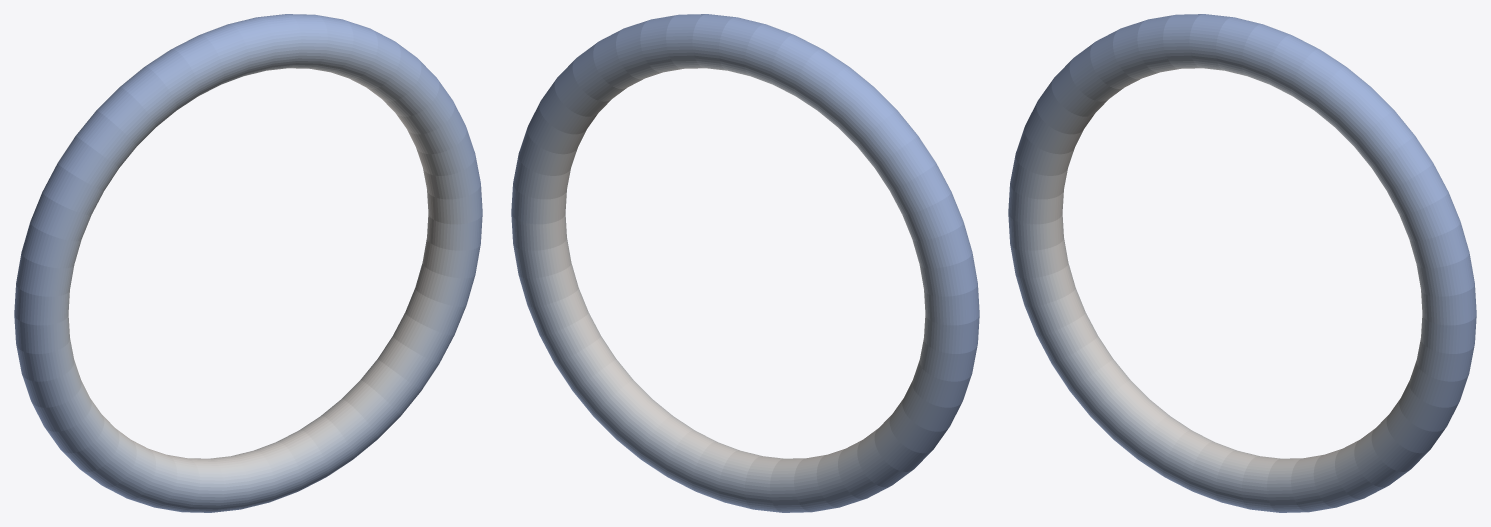
3 views of the same model, side by side, from view 1: azimuth 30°, elevation 25°; view 2: azimuth 150°, elevation 25°; view 3: azimuth 330°, elevation 25° (orthographic).
Visible parts, largest first — view 1: world; view 2: world; view 3: world.
Boxes of the visible parts, x1,y1,x2,y2 form: world: (14, 14, 482, 512); world: (511, 14, 979, 512); world: (1008, 14, 1476, 512).
Bounding box in the file's own units: 32.67 × 32.6 × 3.33.
